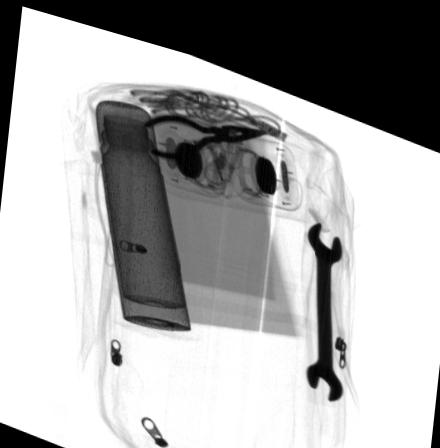Pliers: (141, 103, 270, 149)
Wrench: (307, 203, 345, 382)
